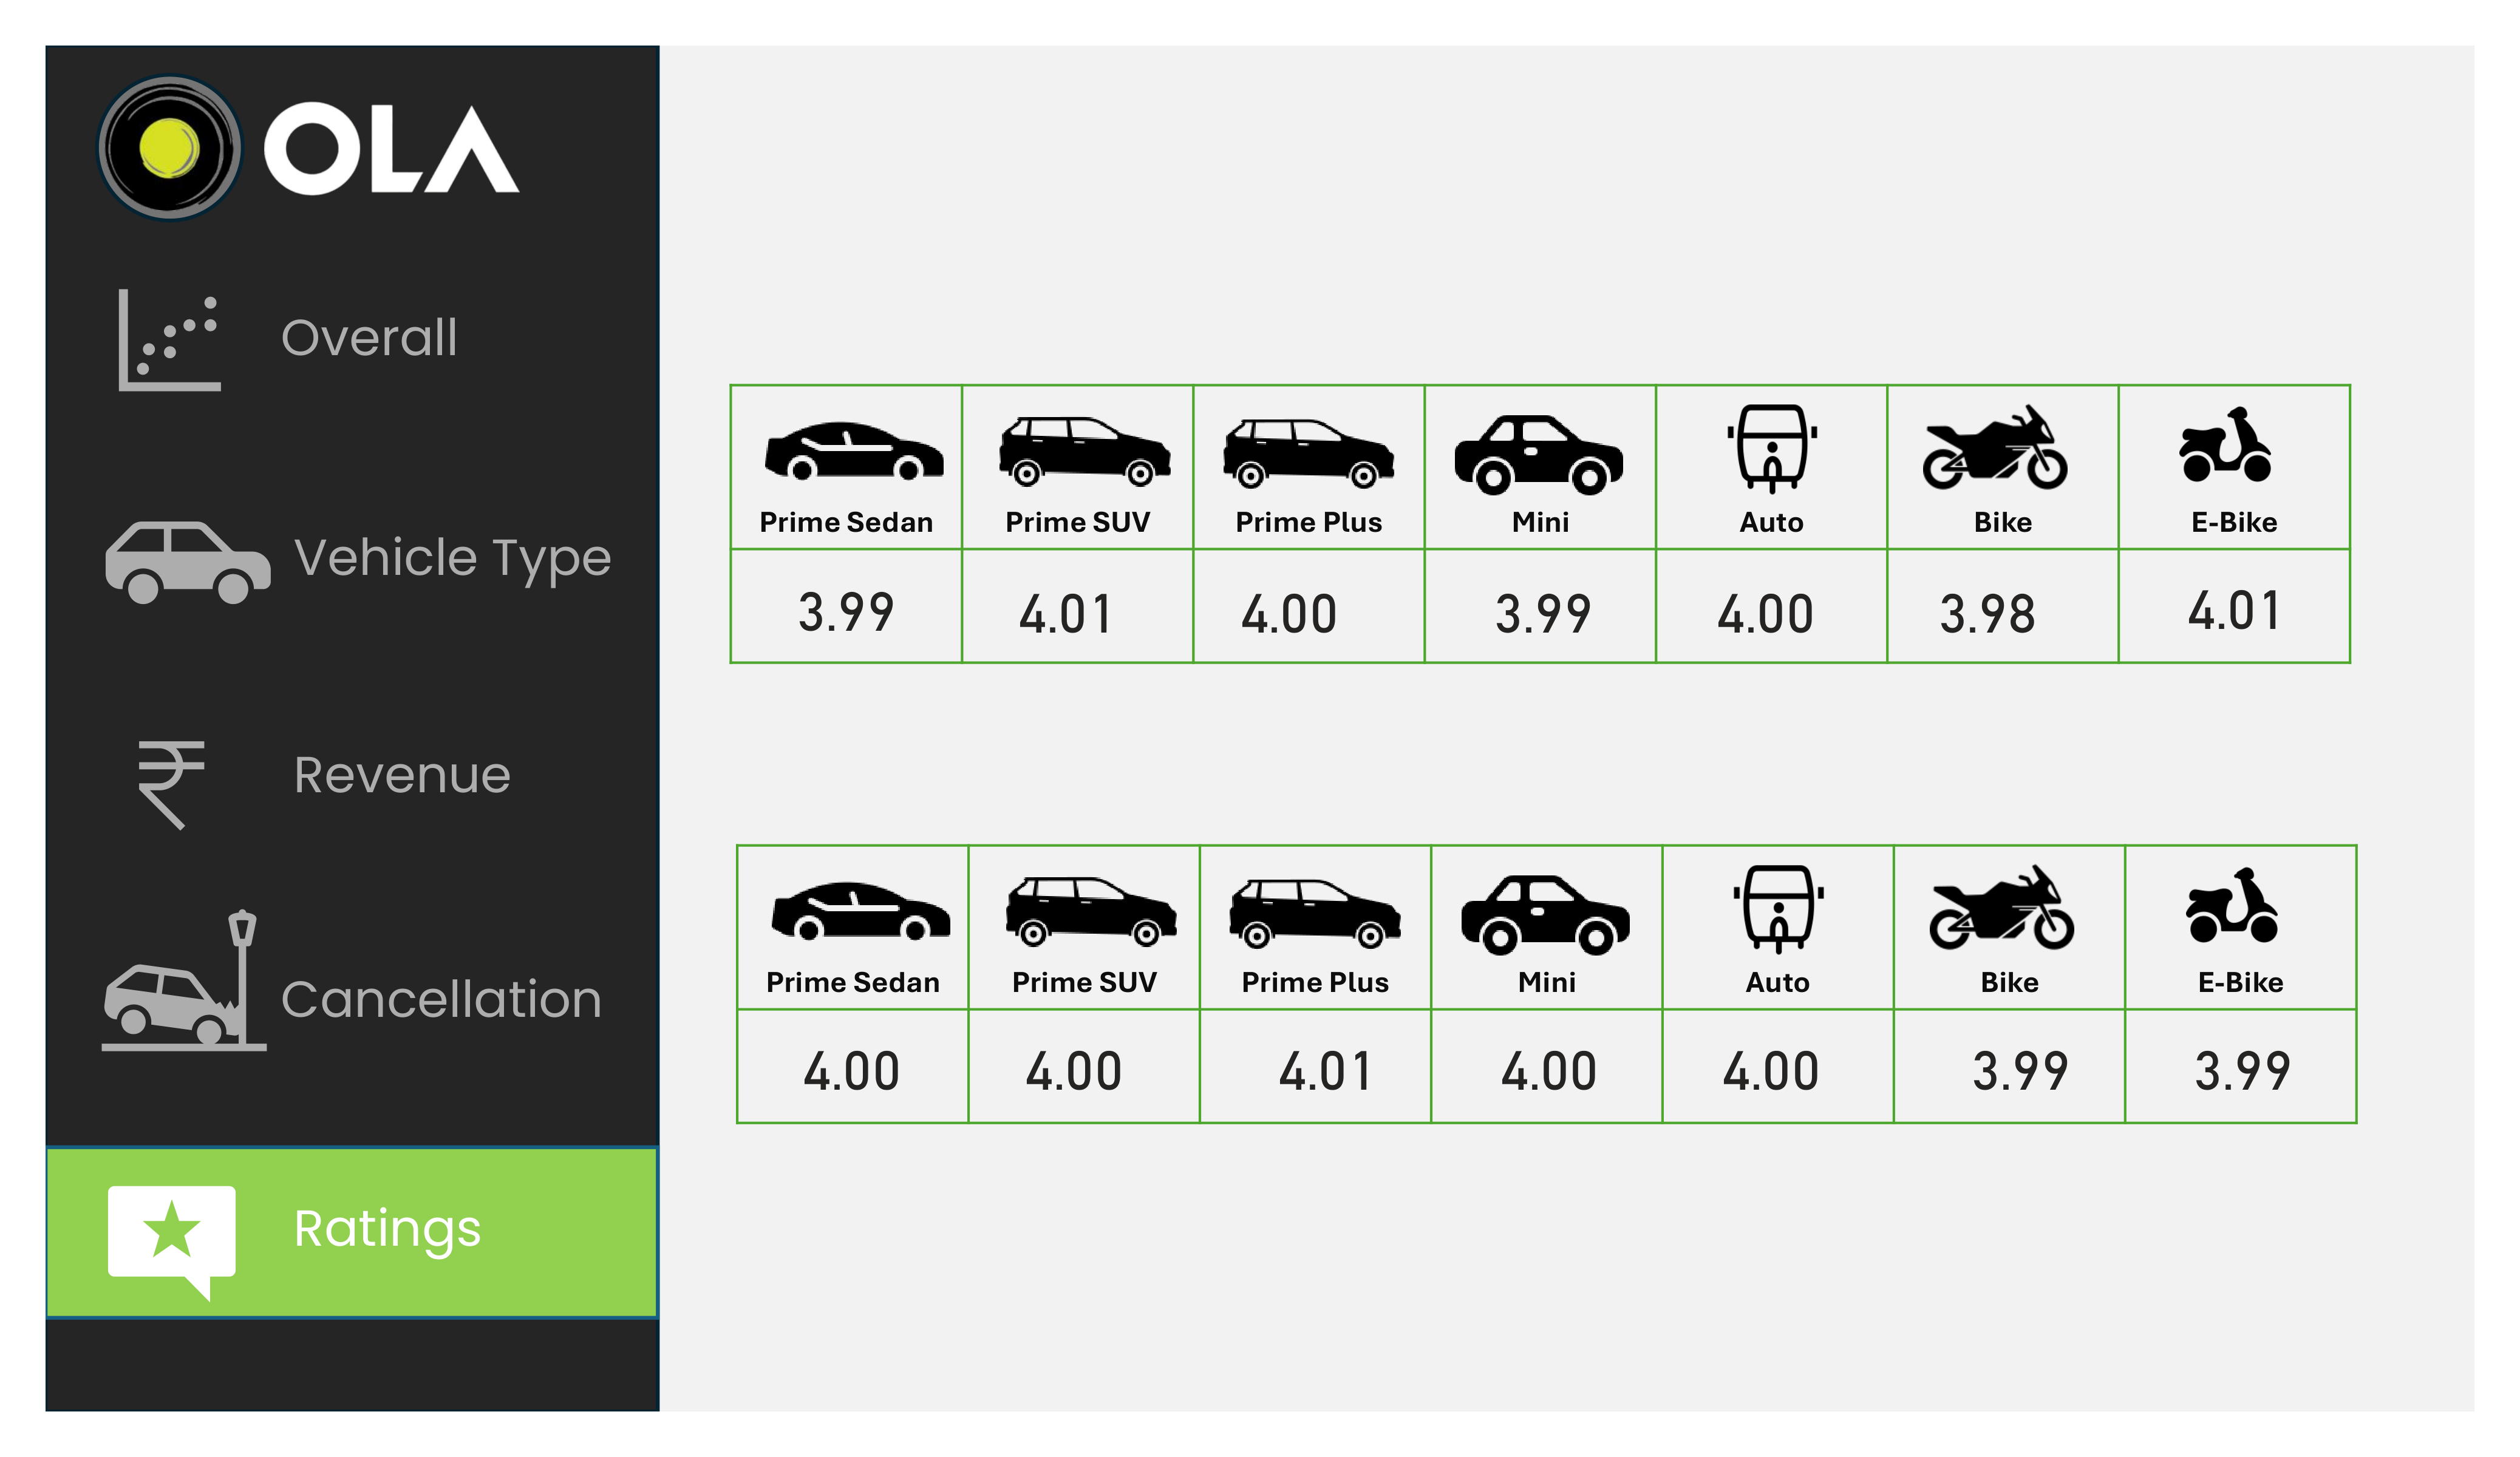

This screenshot's page, from the dashboard's own definition file:
{"tool":"powerbi","page":{"name":"Rating","canvas":[1280,720],"ordinal":4},"visuals":[{"type":"card","fields":{"Values":["Avg(July.Driver_Ratings)"]},"box":[363.8,262.2,116.4,68.8],"z":0},{"type":"card","fields":{"Values":["Avg(July.Driver_Ratings)"]},"box":[480.3,263.1,116.9,68.9],"z":1000},{"type":"card","fields":{"Values":["Avg(July.Driver_Ratings)"]},"box":[597.2,263.1,116.9,68.9],"z":2000},{"type":"card","fields":{"Values":["Avg(July.Driver_Ratings)"]},"box":[730.8,263.1,116.9,68.9],"z":3000},{"type":"card","fields":{"Values":["Avg(July.Driver_Ratings)"]},"box":[847.8,263.1,116.9,68.9],"z":4000},{"type":"card","fields":{"Values":["Avg(July.Driver_Ratings)"]},"box":[964.7,263.1,116.9,68.9],"z":5000},{"type":"card","fields":{"Values":["Avg(July.Driver_Ratings)"]},"box":[1096.2,261,116.9,68.9],"z":6000},{"type":"card","fields":{"Values":["Avg(July.Customer_Rating)"]},"box":[369.6,507.4,110.7,62.6],"z":7000},{"type":"card","fields":{"Values":["Avg(July.Customer_Rating)"]},"box":[486.5,507.4,110.7,62.6],"z":8000},{"type":"card","fields":{"Values":["Avg(July.Customer_Rating)"]},"box":[620.2,507.4,110.7,62.6],"z":9000},{"type":"card","fields":{"Values":["Avg(July.Customer_Rating)"]},"box":[737.1,507.4,110.7,62.6],"z":10000},{"type":"card","fields":{"Values":["Avg(July.Customer_Rating)"]},"box":[854,507.4,110.7,62.6],"z":11000},{"type":"card","fields":{"Values":["Avg(July.Customer_Rating)"]},"box":[985.6,507.4,110.7,62.6],"z":12000},{"type":"card","fields":{"Values":["Avg(July.Customer_Rating)"]},"box":[1102.5,507.4,110.7,62.6],"z":13000}]}

Visuals, with their boxes on the page's 1280x720 design canvas (x1, y1, x2, y2). These are canvas units, not pixel positions in the 2520x1457 screenshot, which may show the page scaled, cropped or inside an application window:
card - Avg(July.Driver_Ratings): box(364, 262, 480, 331)
card - Avg(July.Driver_Ratings): box(480, 263, 597, 332)
card - Avg(July.Driver_Ratings): box(597, 263, 714, 332)
card - Avg(July.Driver_Ratings): box(731, 263, 848, 332)
card - Avg(July.Driver_Ratings): box(848, 263, 965, 332)
card - Avg(July.Driver_Ratings): box(965, 263, 1082, 332)
card - Avg(July.Driver_Ratings): box(1096, 261, 1213, 330)
card - Avg(July.Customer_Rating): box(370, 507, 480, 570)
card - Avg(July.Customer_Rating): box(486, 507, 597, 570)
card - Avg(July.Customer_Rating): box(620, 507, 731, 570)
card - Avg(July.Customer_Rating): box(737, 507, 848, 570)
card - Avg(July.Customer_Rating): box(854, 507, 965, 570)
card - Avg(July.Customer_Rating): box(986, 507, 1096, 570)
card - Avg(July.Customer_Rating): box(1102, 507, 1213, 570)
